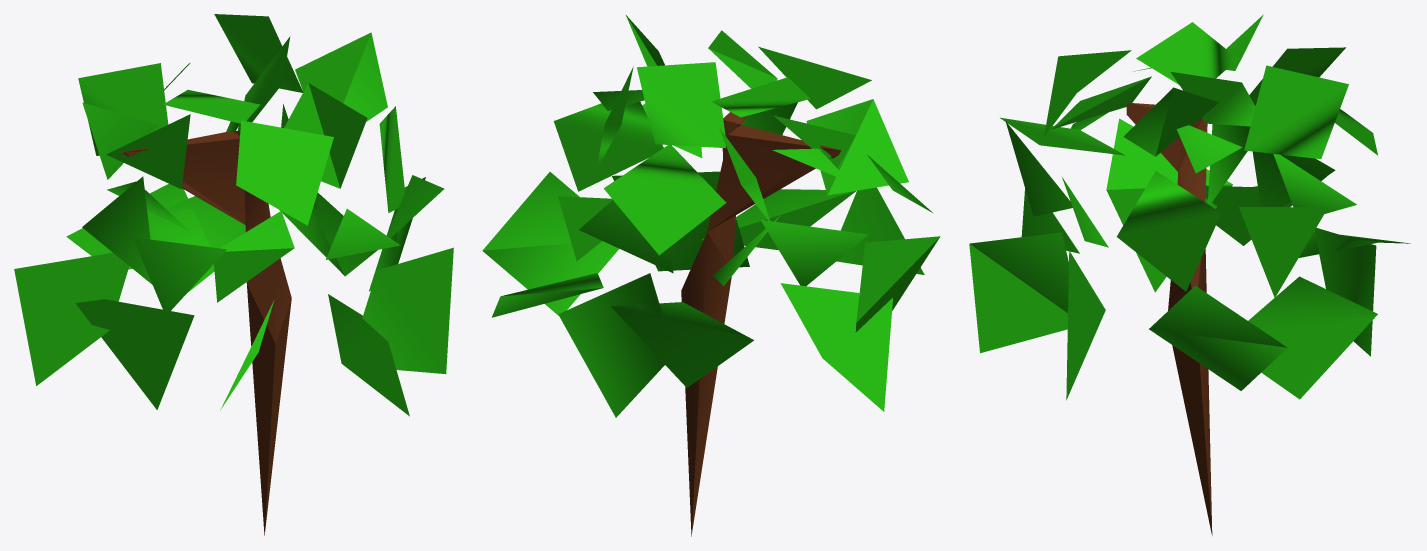
File: leavesLOD2.fbx
3 views of the same model, side by side, from view 1: azimuth 30°, elevation 25°; view 2: azimuth 150°, elevation 25°; view 3: azimuth 270°, elevation 25° (orthographic). The views are drawn at different scales.
Parts seen in each view (by area): view 1: Cube.019; view 2: Cube.019; view 3: Cube.019.
Part boxes in pixels (<box>): Cube.019: <box>14,14,453,535</box>; Cube.019: <box>482,15,940,536</box>; Cube.019: <box>969,14,1410,535</box>.
Size of the model in its own units: 749 by 920 by 752.
